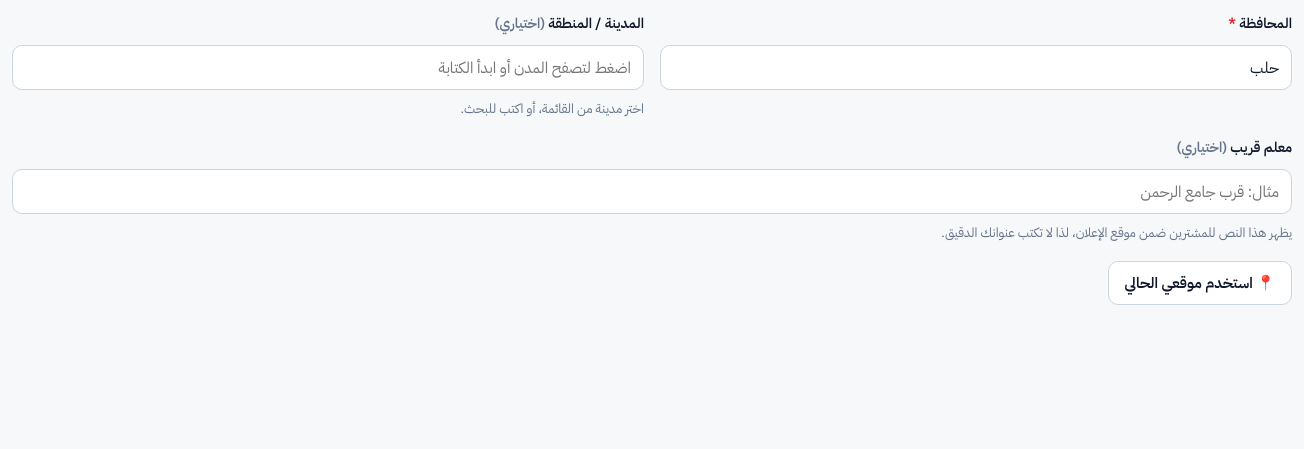
Scenario: LocationPicker › browses the chosen governorate's full city list on focus, before typing anything
Step 1. Select "حلب" in the dropdown labelled "المحافظة *" → (976, 67), box x1=660 y1=44 x2=1292 y2=90
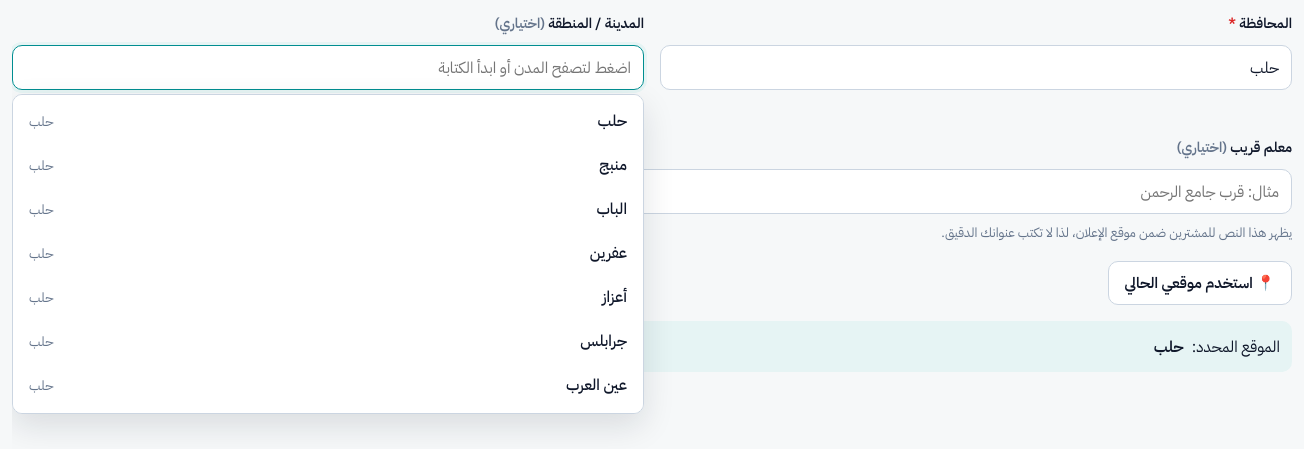
Step 2. Click the option "منبج حلب" → click(613, 164), box x1=29 y1=153 x2=627 y2=176
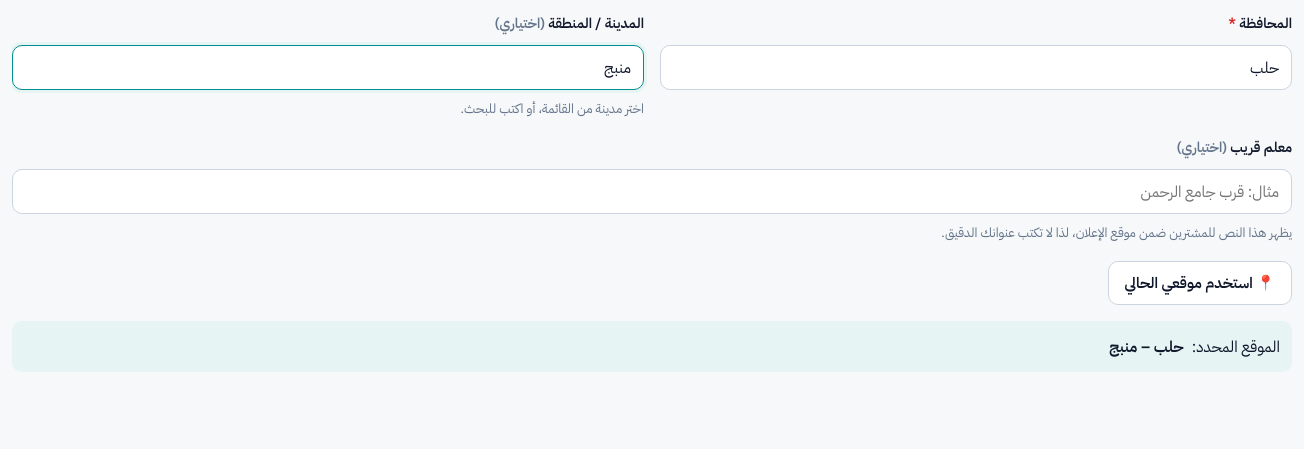
expect the text "حلب – منبج" is shown: met, box x1=1109 y1=333 x2=1184 y2=360
